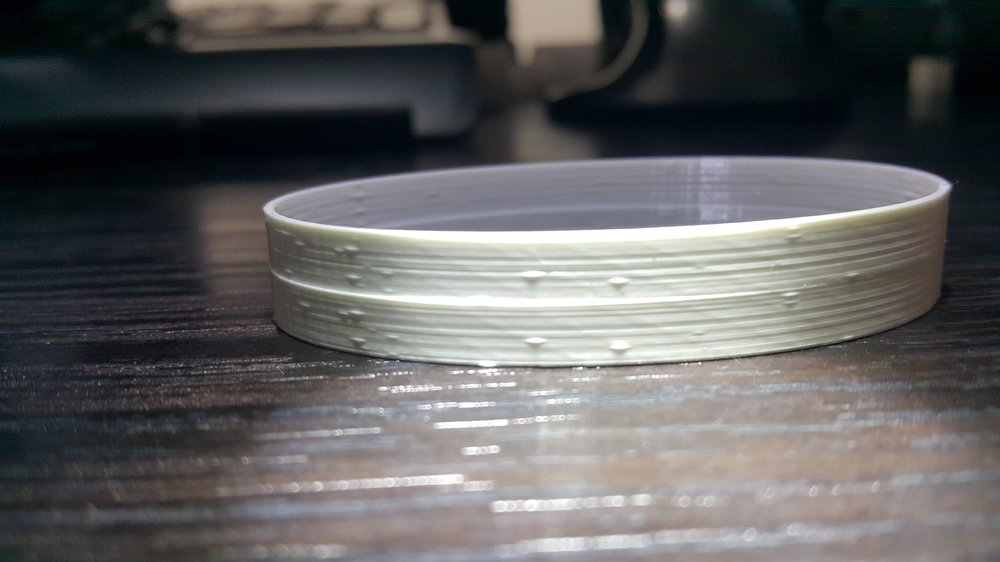blob: (298, 298, 425, 353), (600, 269, 640, 307), (841, 256, 875, 297), (772, 280, 815, 307), (521, 265, 554, 298), (329, 238, 365, 268), (525, 330, 556, 357), (596, 338, 644, 353)
